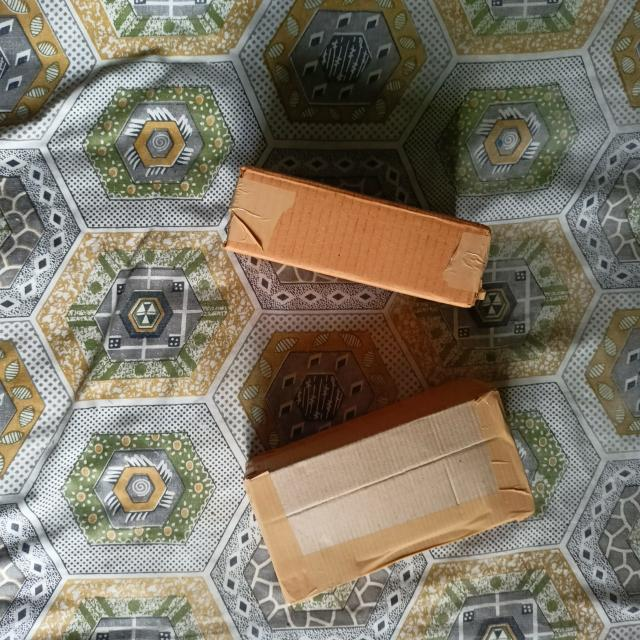box: (246, 394, 537, 604), (226, 173, 493, 305)
